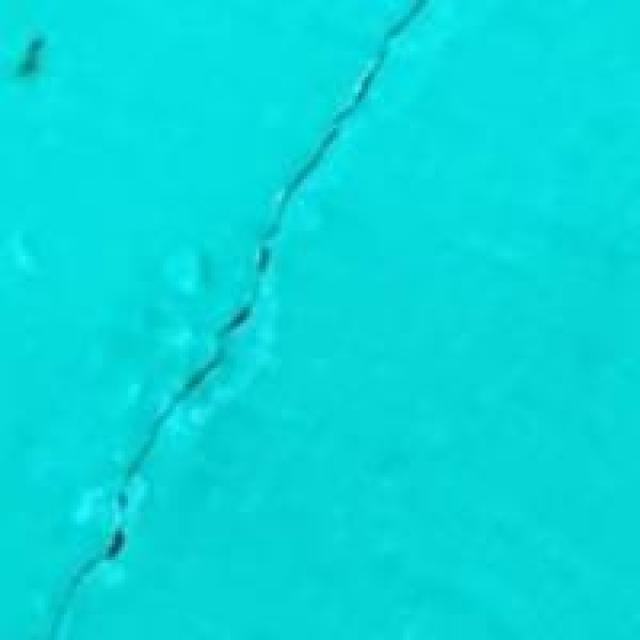Crack: (72, 8, 437, 562)
